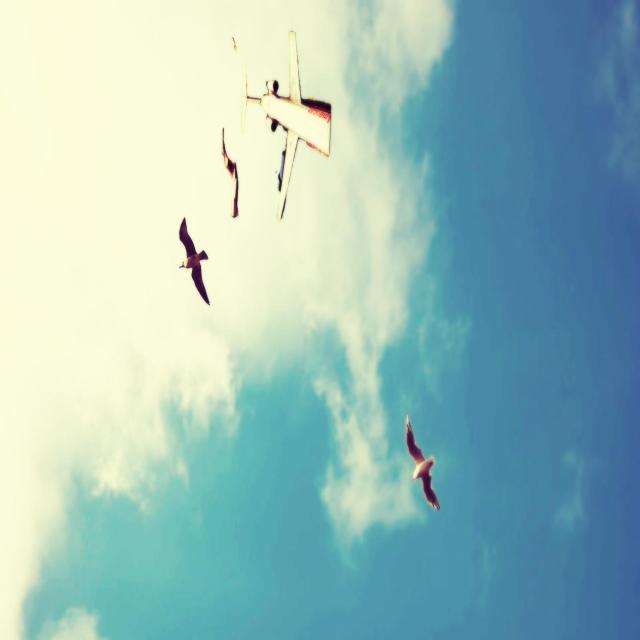airplane: (238, 29, 332, 221), (218, 127, 238, 219)
